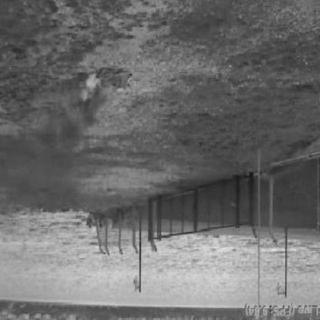Fire: (70, 66, 140, 123)
